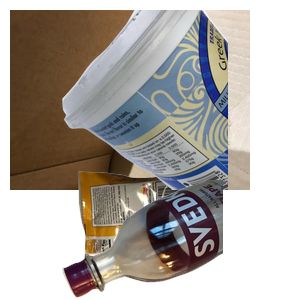cardboard: (10, 10, 250, 190)
glass: (60, 180, 300, 300)
plastic: (60, 10, 300, 190)
trash: (76, 159, 259, 300)
